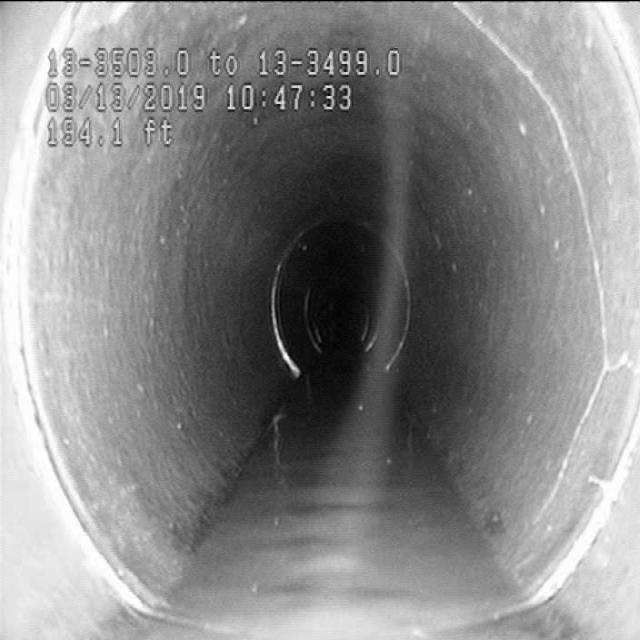Crack: (490, 10, 610, 306), (532, 338, 622, 488)
